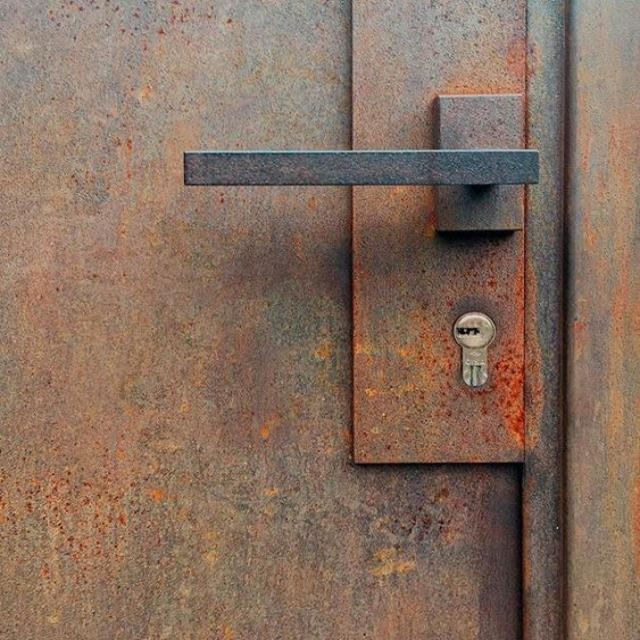door-handle: (185, 94, 538, 232)
